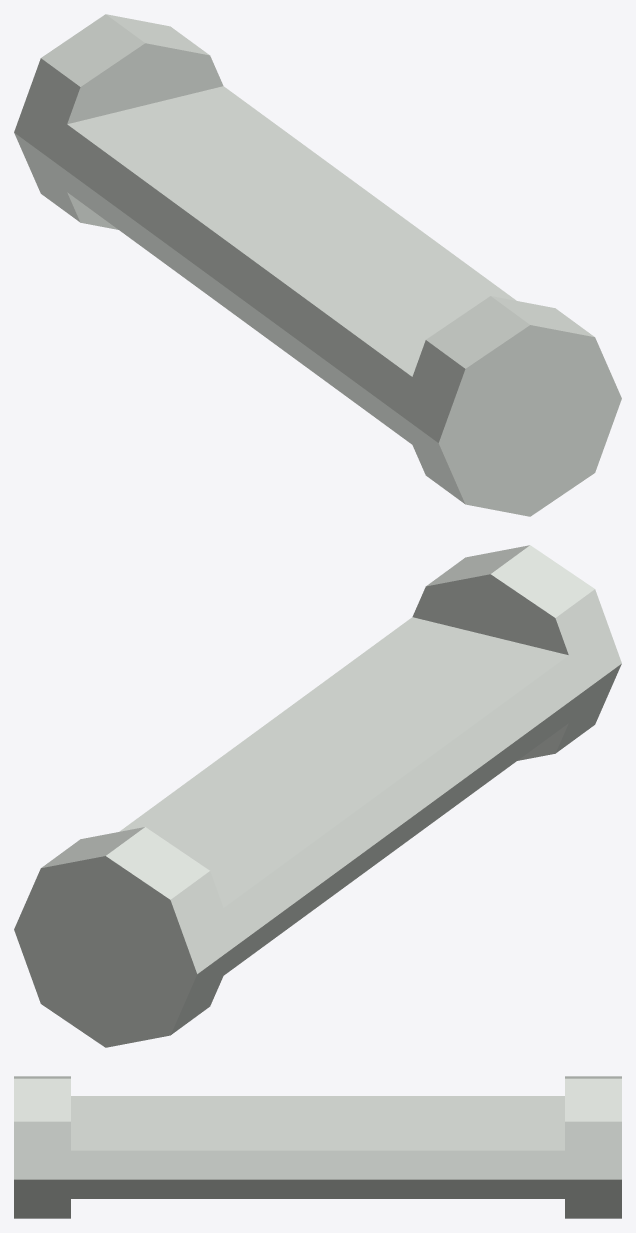
File: fanStationStickDeco.FBX
3 views of the same model, one above another, from view 1: azimuth 30°, elevation 25°; view 2: azimuth 150°, elevation 25°; view 3: azimuth 270°, elevation 25° (orthographic). The views are drawn at different scales.
Visible parts, largest first — view 1: fanStationStickDeco; view 2: fanStationStickDeco; view 3: fanStationStickDeco.
Part boxes in pixels (left/top/right/bottom): fanStationStickDeco: left=14, top=14, right=621, bottom=516; fanStationStickDeco: left=14, top=545, right=621, bottom=1047; fanStationStickDeco: left=14, top=1076, right=621, bottom=1218.
Bounding box in the file's own units: 4.53 × 4.53 × 18.19.
